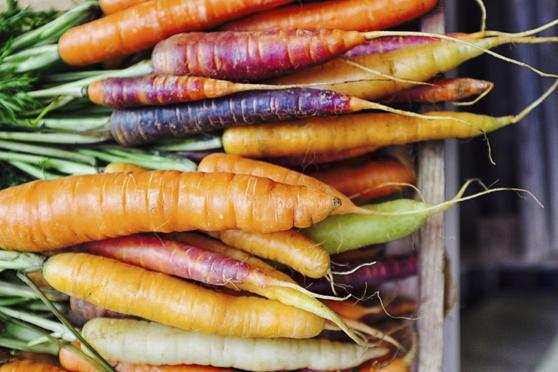carrot: (1, 174, 350, 249)
